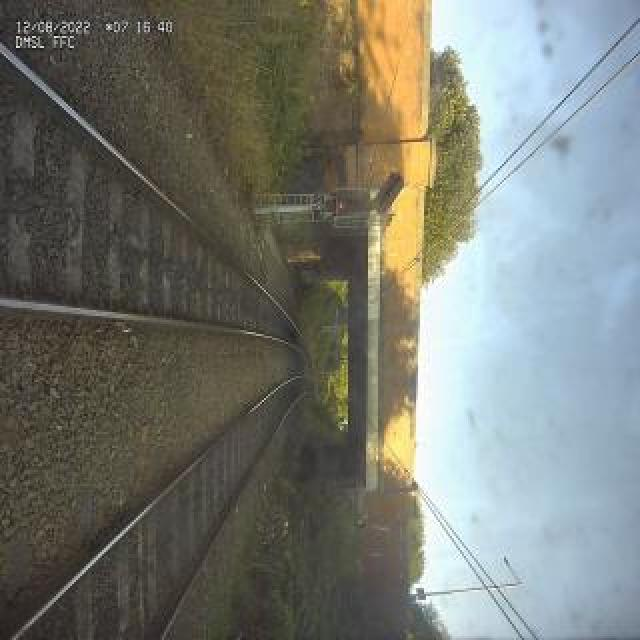Signal-Green: (337, 199, 369, 219)
